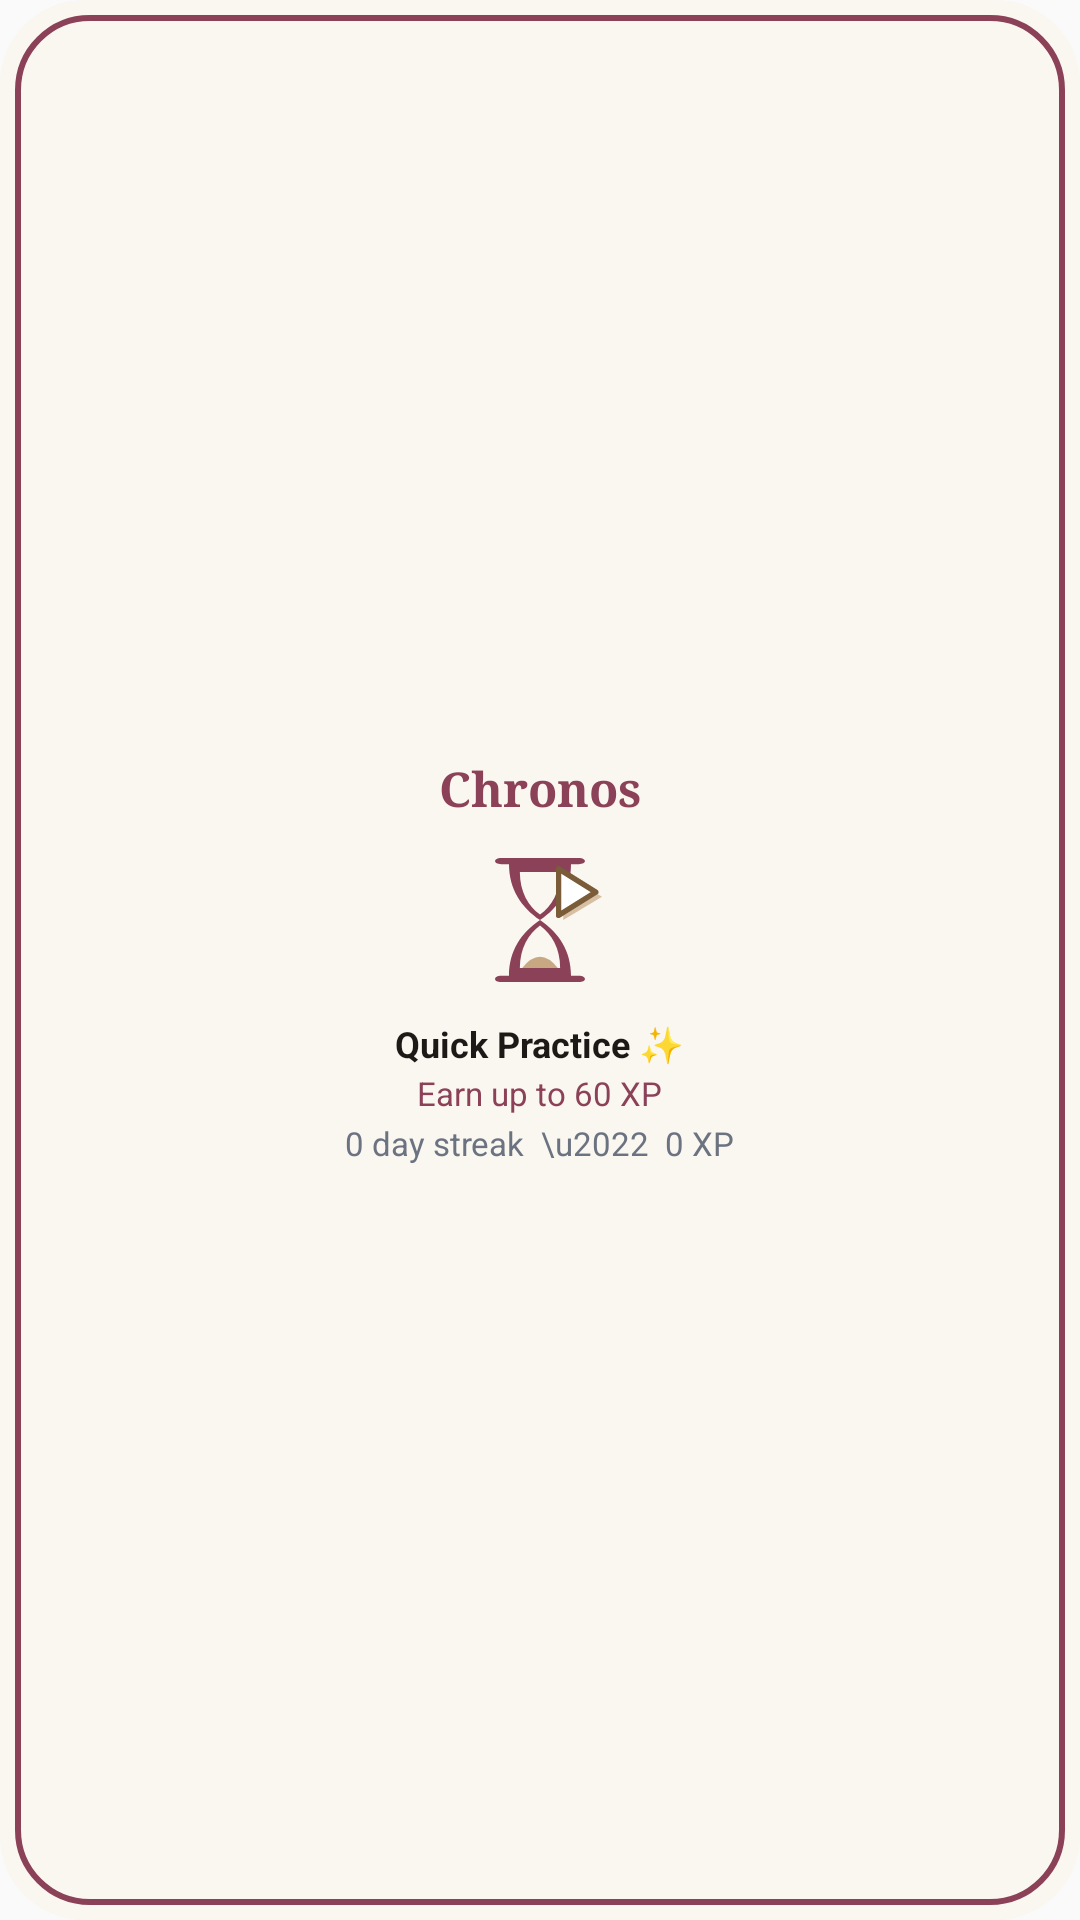

Icons on this 1080x1920 Android screen, each with the point to tap as [x,y]:
widget hourglass play: [548,920]
